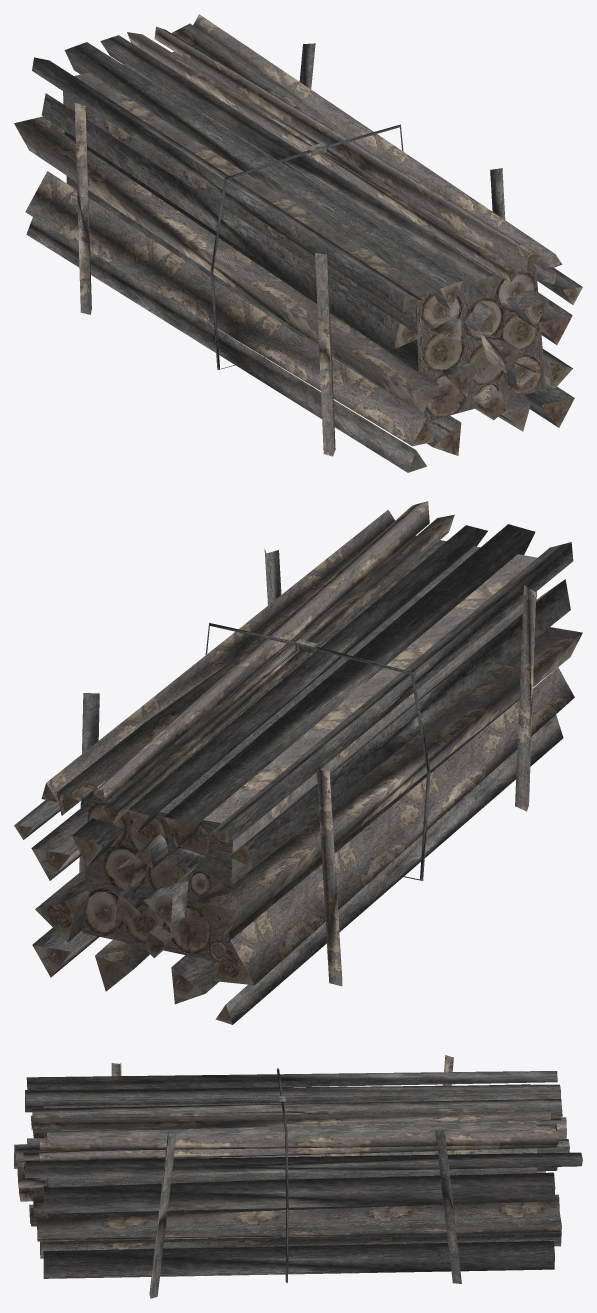
Rendered from Building_LinjgdJz007_lod2.glb.
3 renders of one model, top to bottom at view 1: azimuth 30°, elevation 25°; view 2: azimuth 150°, elevation 25°; view 3: azimuth 270°, elevation 25°, orthographic. The views are drawn at different scales.
Visible parts, largest first — view 1: bmsl_linjgd_jz007_lod2; view 2: bmsl_linjgd_jz007_lod2; view 3: bmsl_linjgd_jz007_lod2.
Boxes of the visible parts, x1,y1,x2,y2 form: bmsl_linjgd_jz007_lod2: (14,14,582,472); bmsl_linjgd_jz007_lod2: (14,501,582,1024); bmsl_linjgd_jz007_lod2: (14,1055,582,1298).
Bounding box in the file's own units: 2.97 × 2.47 × 7.67.
1 material, 1 textured.
